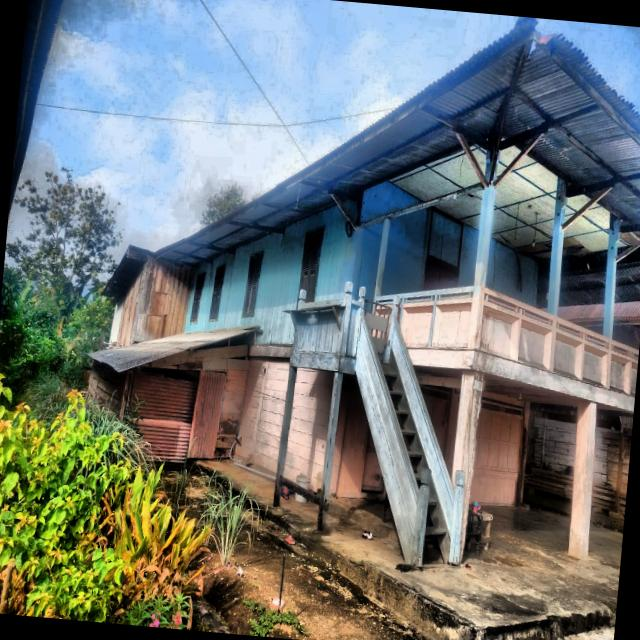column: (451, 369, 484, 563), (568, 398, 597, 558)
door: (360, 426, 384, 493), (425, 261, 456, 290)
ornamen: (479, 304, 519, 359), (431, 302, 471, 348), (517, 319, 552, 371), (553, 331, 582, 380), (401, 305, 433, 347), (582, 343, 608, 387), (609, 353, 630, 394), (630, 361, 637, 396)
roof: (156, 16, 640, 264), (89, 326, 258, 371)
stair: (351, 285, 464, 567)
wall: (183, 203, 355, 343), (235, 356, 290, 472), (283, 367, 334, 492), (468, 407, 523, 506), (330, 373, 369, 497), (380, 207, 427, 294), (485, 237, 539, 307), (360, 180, 423, 223), (350, 220, 383, 302), (421, 394, 449, 458), (458, 223, 478, 286)
window: (296, 225, 324, 309), (241, 250, 263, 318), (208, 263, 226, 322), (189, 271, 205, 325)
